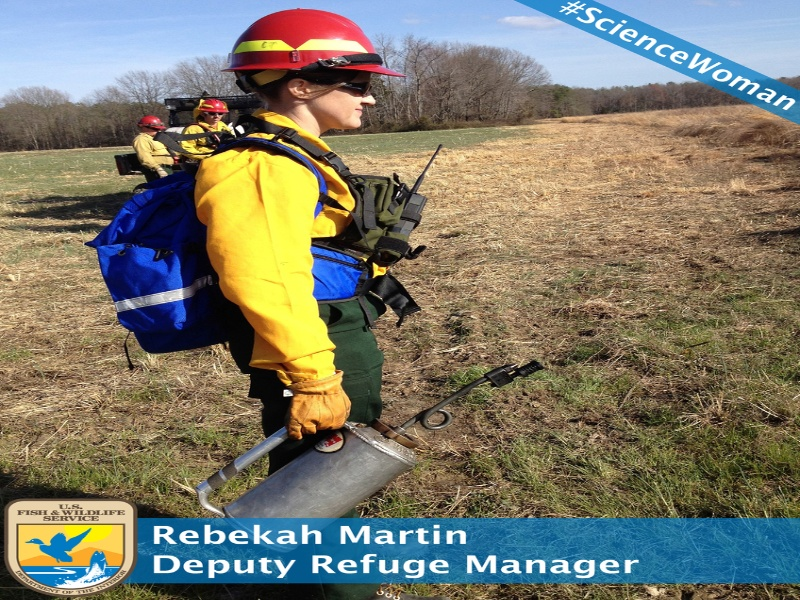Baret: (222, 7, 404, 82), (198, 99, 232, 113), (138, 115, 166, 127)
